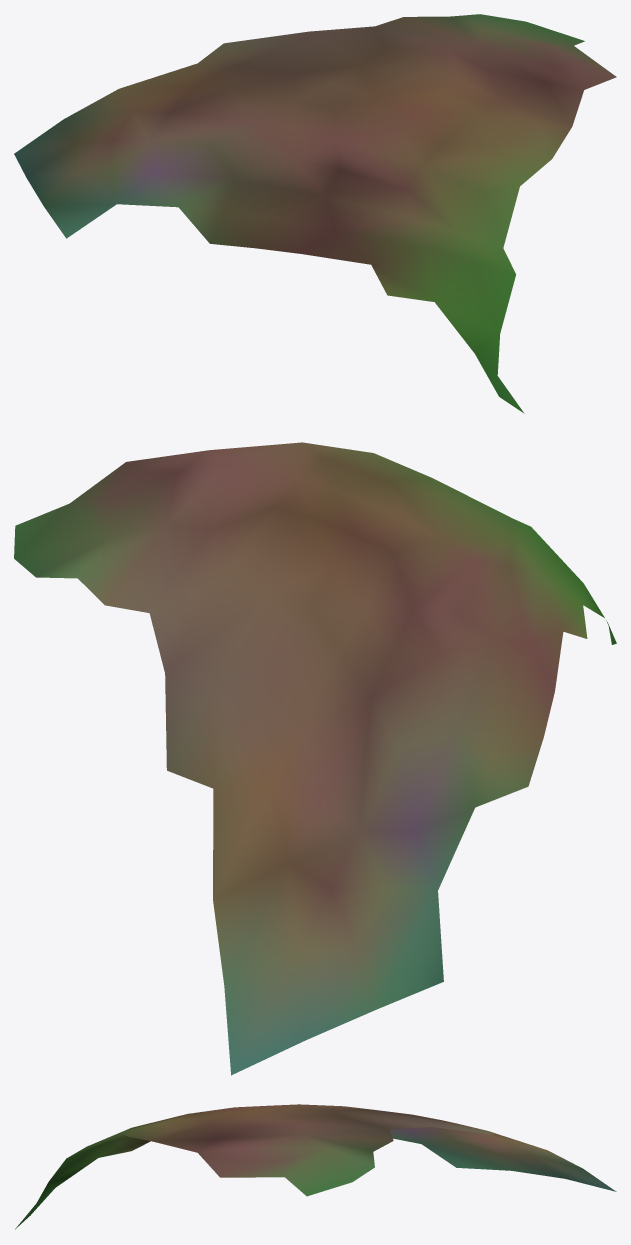
Rendered from space-nebulae-nebula_v1.glb.
3 renders of one model, top to bottom at view 1: azimuth 30°, elevation 25°; view 2: azimuth 150°, elevation 25°; view 3: azimuth 270°, elevation 25°, orthographic. The views are drawn at different scales.
Parts seen in each view (by area): view 1: Nebula_v1; view 2: Nebula_v1; view 3: Nebula_v1.
Part boxes in pixels (left/top/right/bottom): Nebula_v1: left=14, top=14, right=616, bottom=413; Nebula_v1: left=14, top=442, right=616, bottom=1075; Nebula_v1: left=15, top=1104, right=616, bottom=1229.
Size of the model in its own units: 0.3048 by 0.1398 by 0.5.
